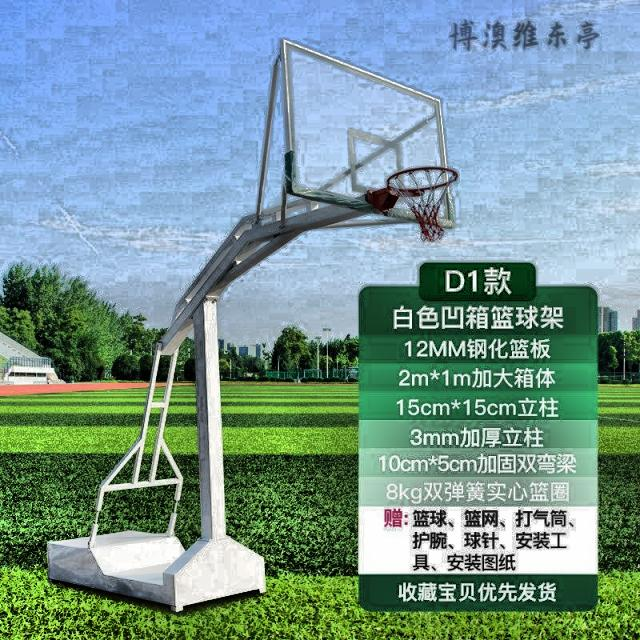rim: (388, 168, 462, 242)
